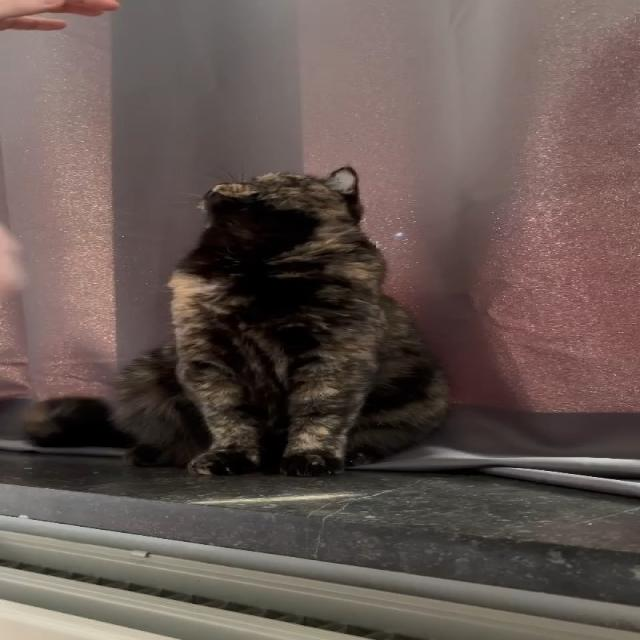authorized: (107, 165, 452, 477)
